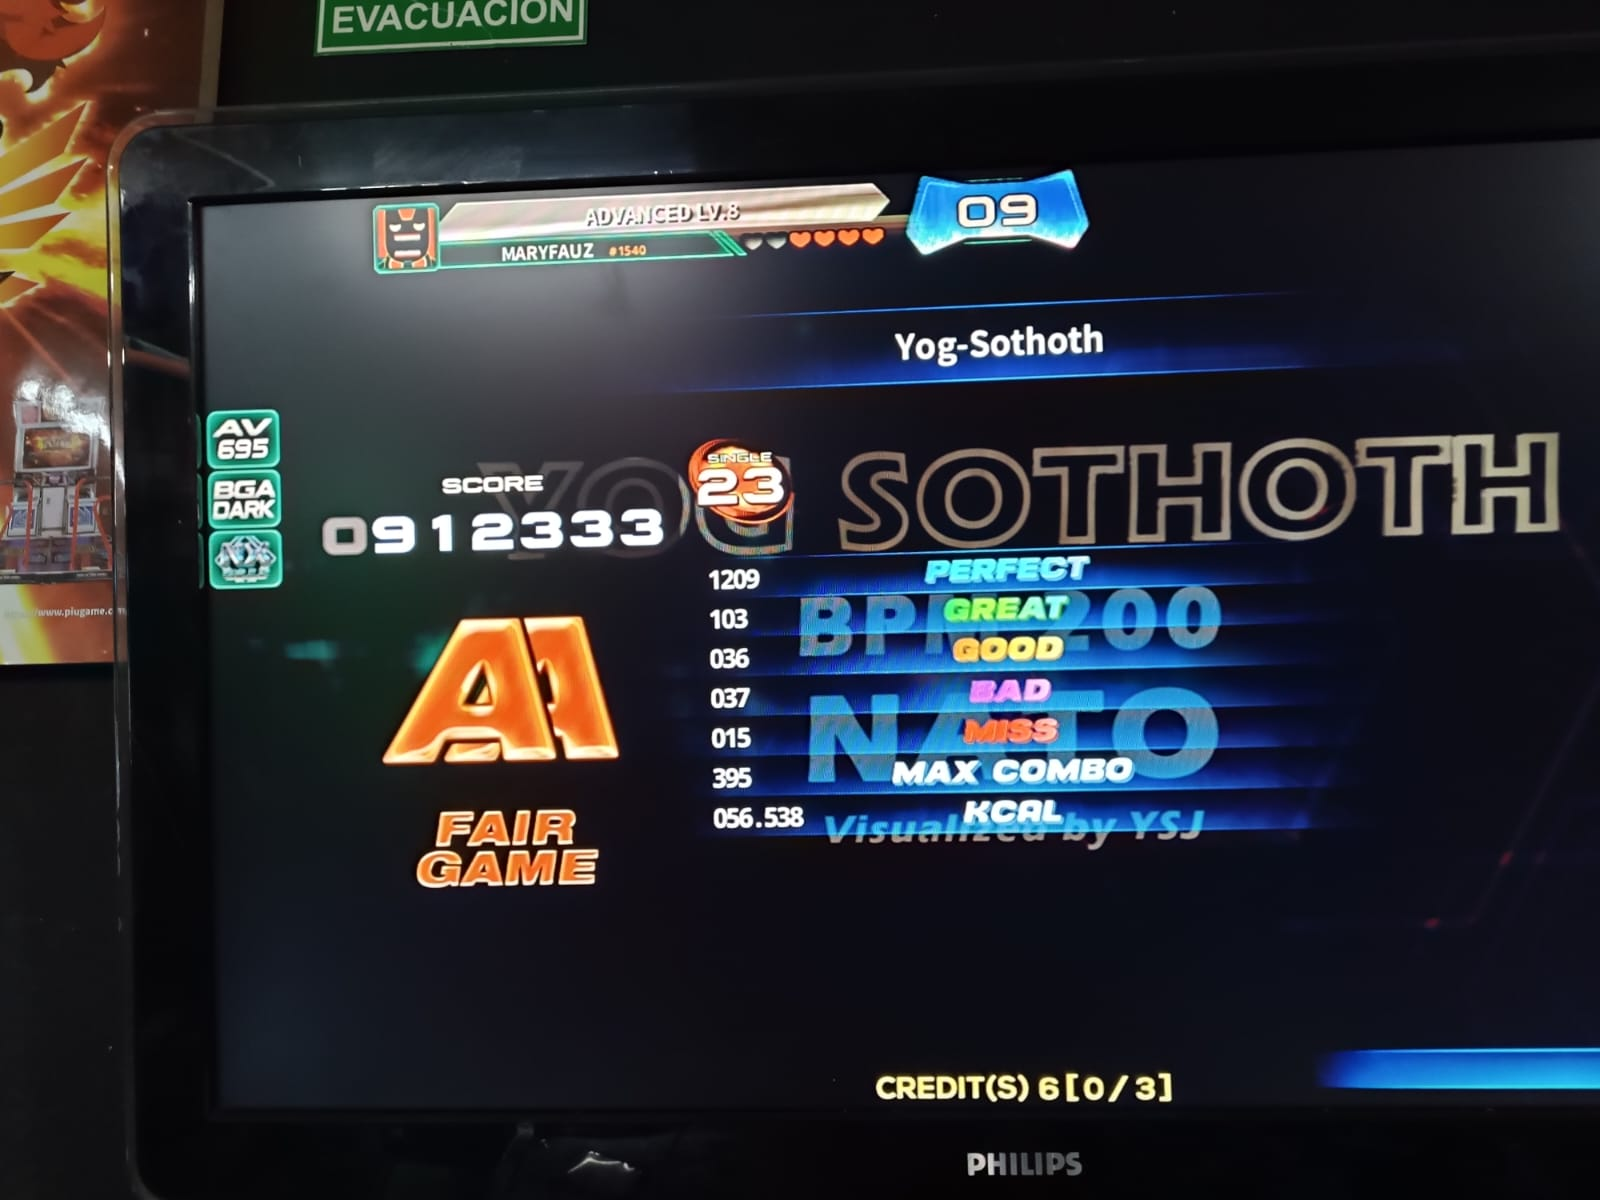difficulty: (675, 427, 796, 514)
fullscore: (62, 125, 1180, 1085)
rank: (365, 584, 631, 794)
score: (328, 439, 688, 568)
song_name: (654, 320, 1482, 389)
